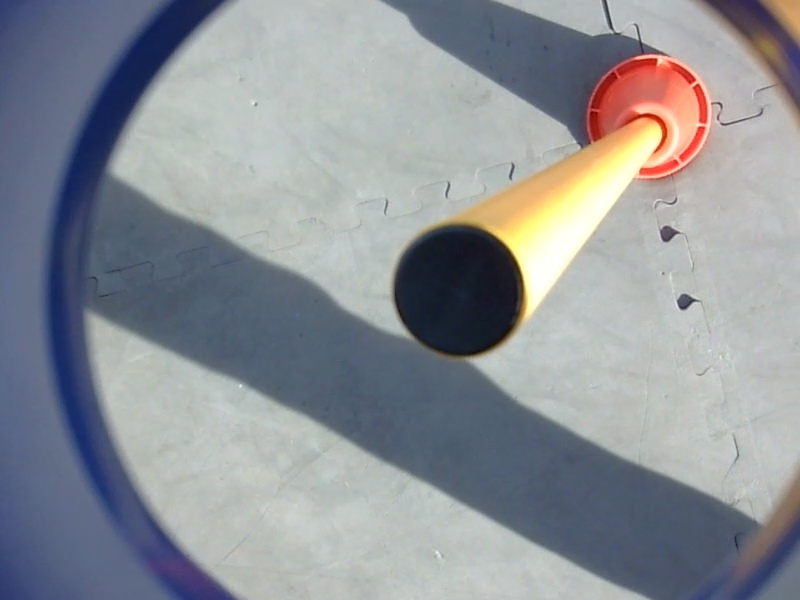tip: (384, 218, 537, 368)
